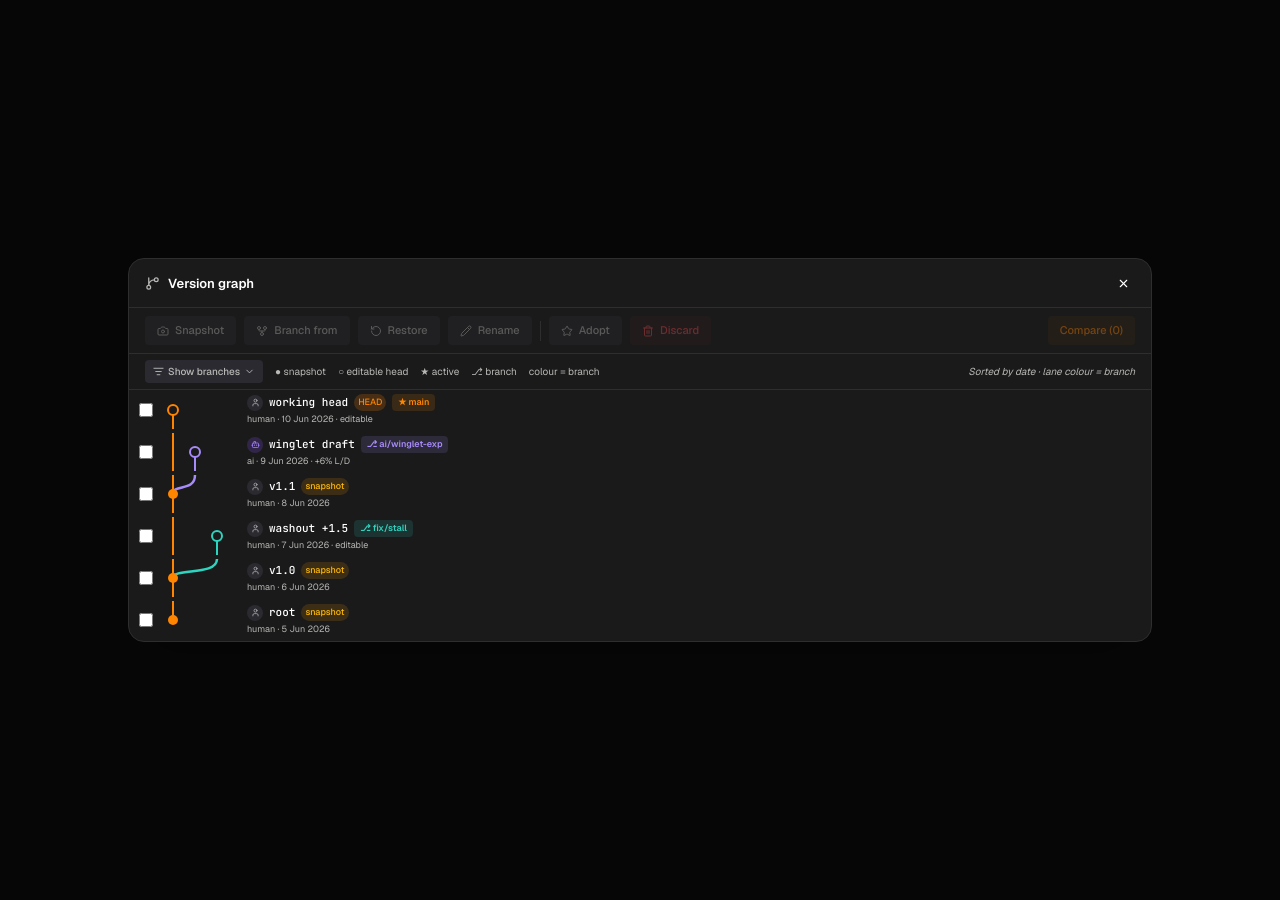
Test: VersionGraphOverlay (gh-961) › toolbar enable/disable › selecting an editable head: Snapshot enabled, Restore disabled
Click the row with test id "graph-row-10": (287, 410) [139, 391, 435, 429]
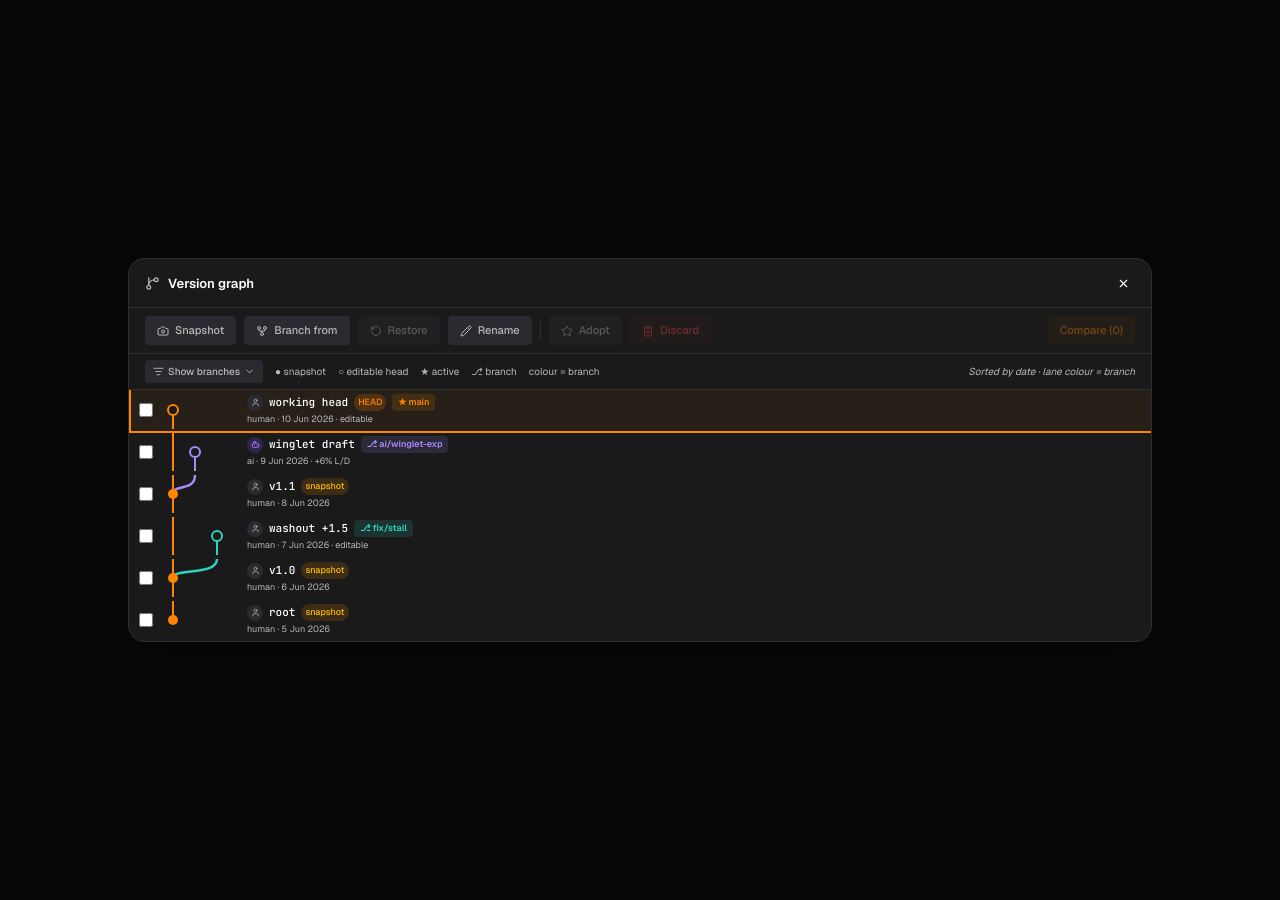
Expected: the button "Restore" is disabled, [358, 316, 440, 345]
Expected: the button "Snapshot" is enabled, [145, 316, 236, 345]
